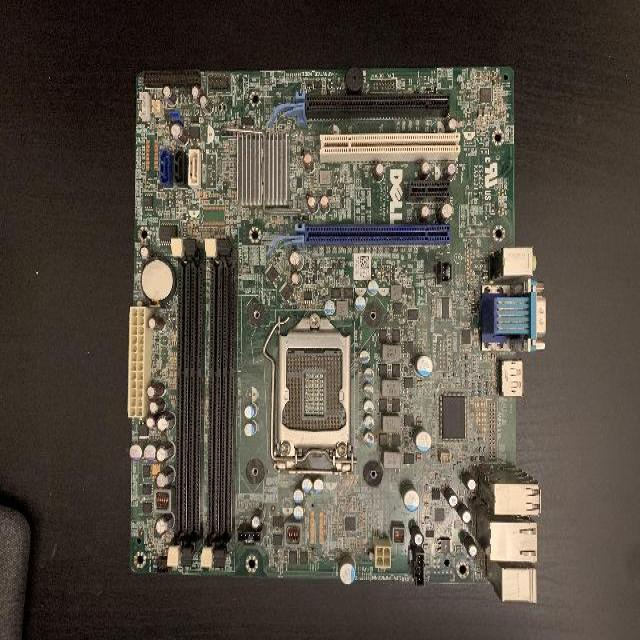Mainboard: (131, 68, 547, 607)
